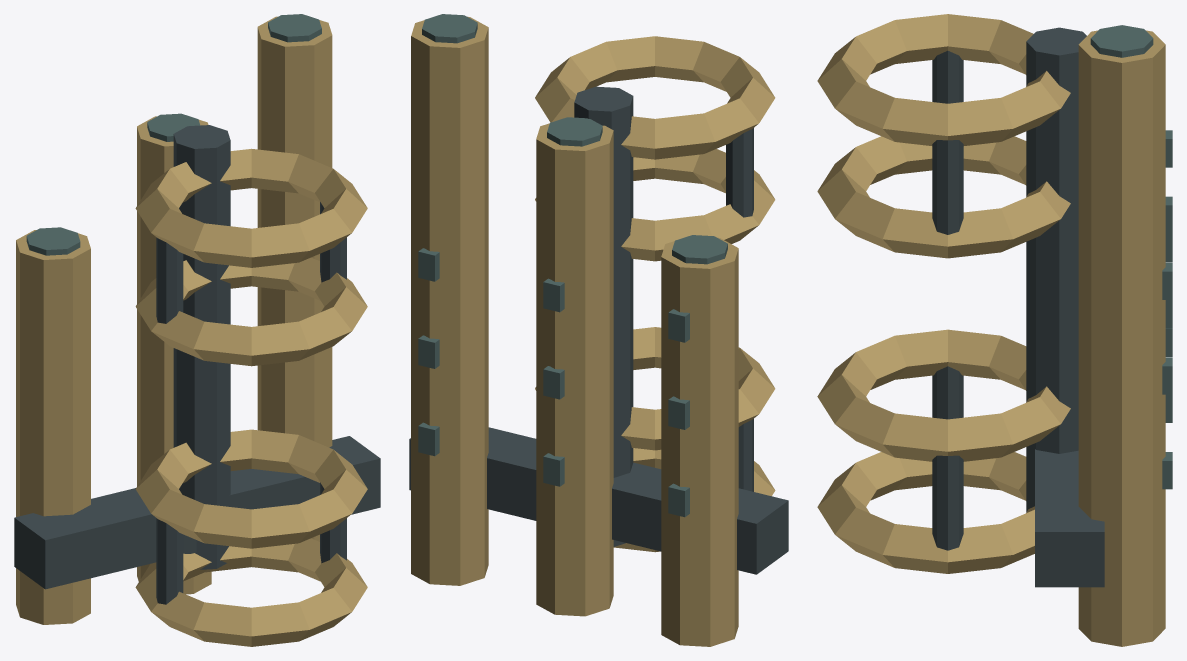
The model's file is Equip_SplitReed.fbx.
3 renders of one model, left to right at view 1: azimuth 30°, elevation 25°; view 2: azimuth 150°, elevation 25°; view 3: azimuth 270°, elevation 25°, orthographic. The views are drawn at different scales.
Visible parts, largest first — view 1: Equip_SplitReed; view 2: Equip_SplitReed; view 3: Equip_SplitReed.
Part boxes in pixels (x1=…): Equip_SplitReed: x1=14, y1=14, x2=380, y2=646; Equip_SplitReed: x1=409, y1=14, x2=788, y2=646; Equip_SplitReed: x1=817, y1=14, x2=1172, y2=646.
Bounding box in the file's own units: 0.25 × 0.374 × 0.204.
